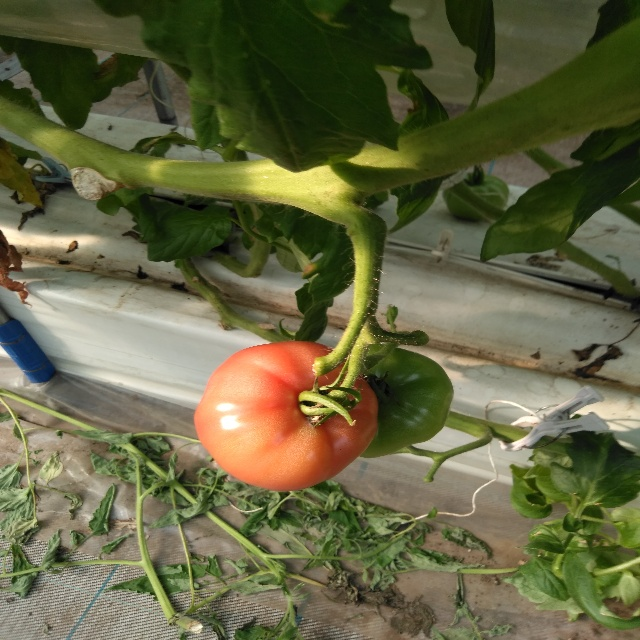b_green: (359, 343, 455, 458), (443, 171, 508, 221)
b_half_ripened: (192, 340, 379, 491)
